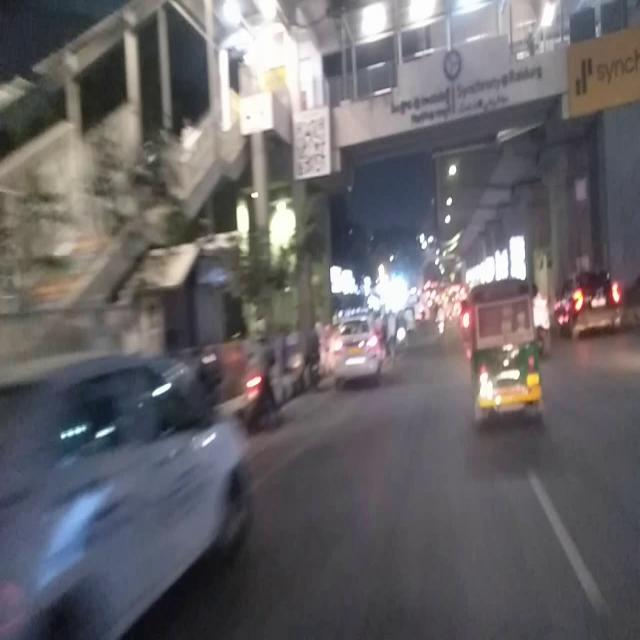auto: (466, 277, 542, 425)
car: (0, 348, 250, 634), (559, 262, 623, 340), (327, 309, 386, 387)
road: (123, 426, 639, 640), (257, 330, 640, 425)
